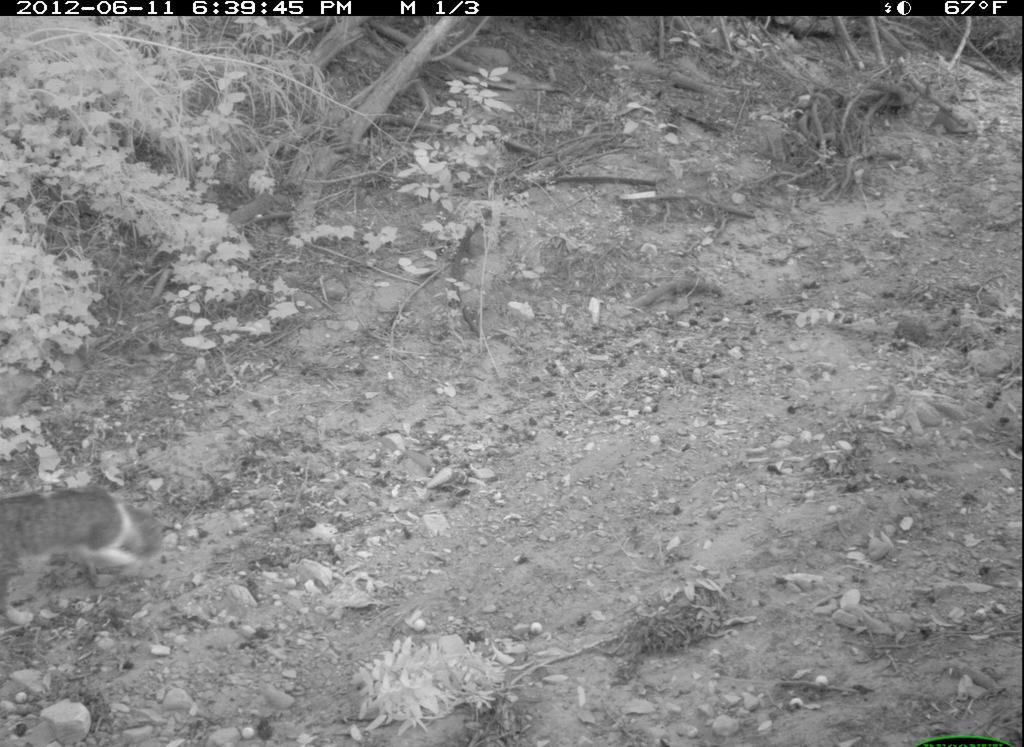cat: (3, 481, 173, 638)
